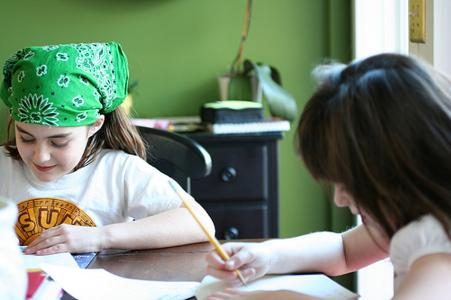person: (205, 52, 451, 299)
